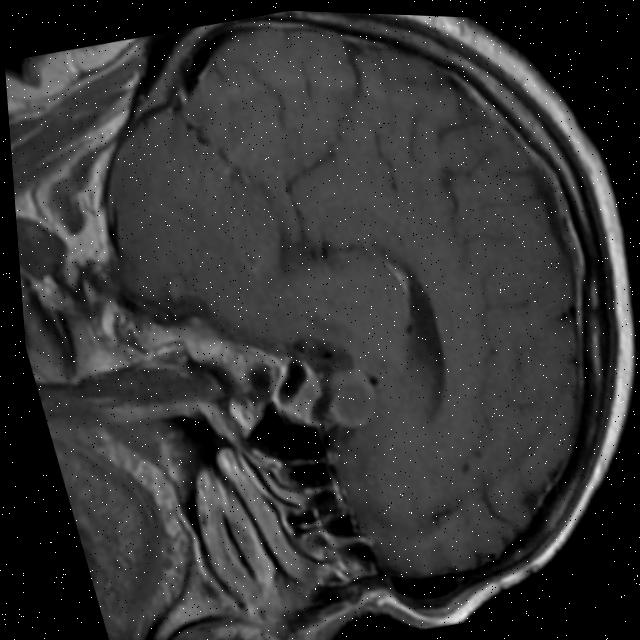Pituitary: (272, 348, 385, 443)
